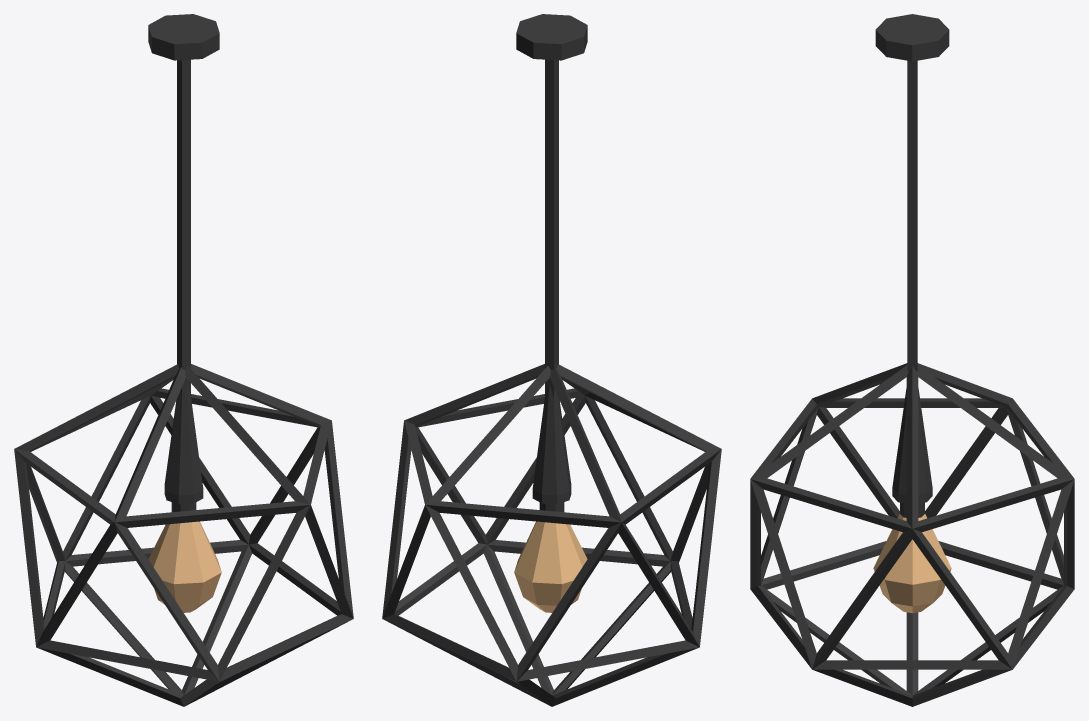
Rendered from Light_12.fbx.
3 renders of one model, left to right at view 1: azimuth 30°, elevation 25°; view 2: azimuth 150°, elevation 25°; view 3: azimuth 270°, elevation 25°, orthographic.
Parts seen in each view (by area): view 1: Light_12; view 2: Light_12; view 3: Light_12.
Part boxes in pixels (left/top/right/bottom): Light_12: left=14, top=14, right=353, bottom=706; Light_12: left=382, top=14, right=721, bottom=706; Light_12: left=750, top=14, right=1074, bottom=706.
Size of the model in its own units: 28.9 by 63.29 by 27.49.
